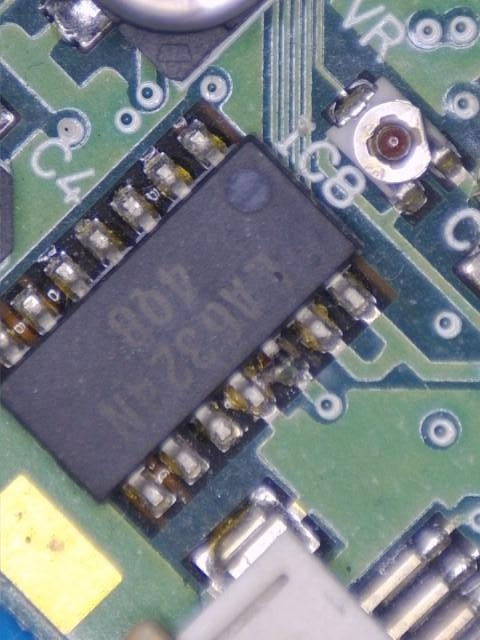pcb_defect: (226, 338, 310, 418)
